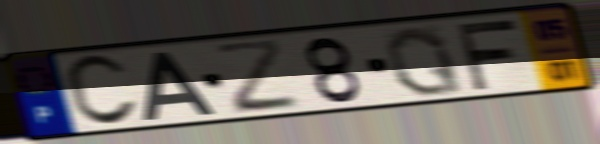8: (302, 34, 362, 105)
A: (139, 49, 218, 123)
C: (61, 52, 143, 130)
F: (451, 16, 521, 93)
Q: (382, 24, 468, 99)
Z: (210, 36, 306, 117)
